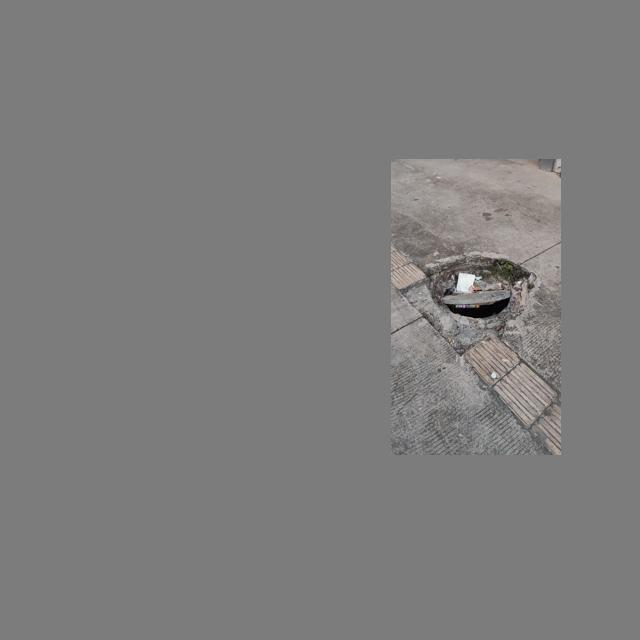circle: (407, 248, 547, 349)
